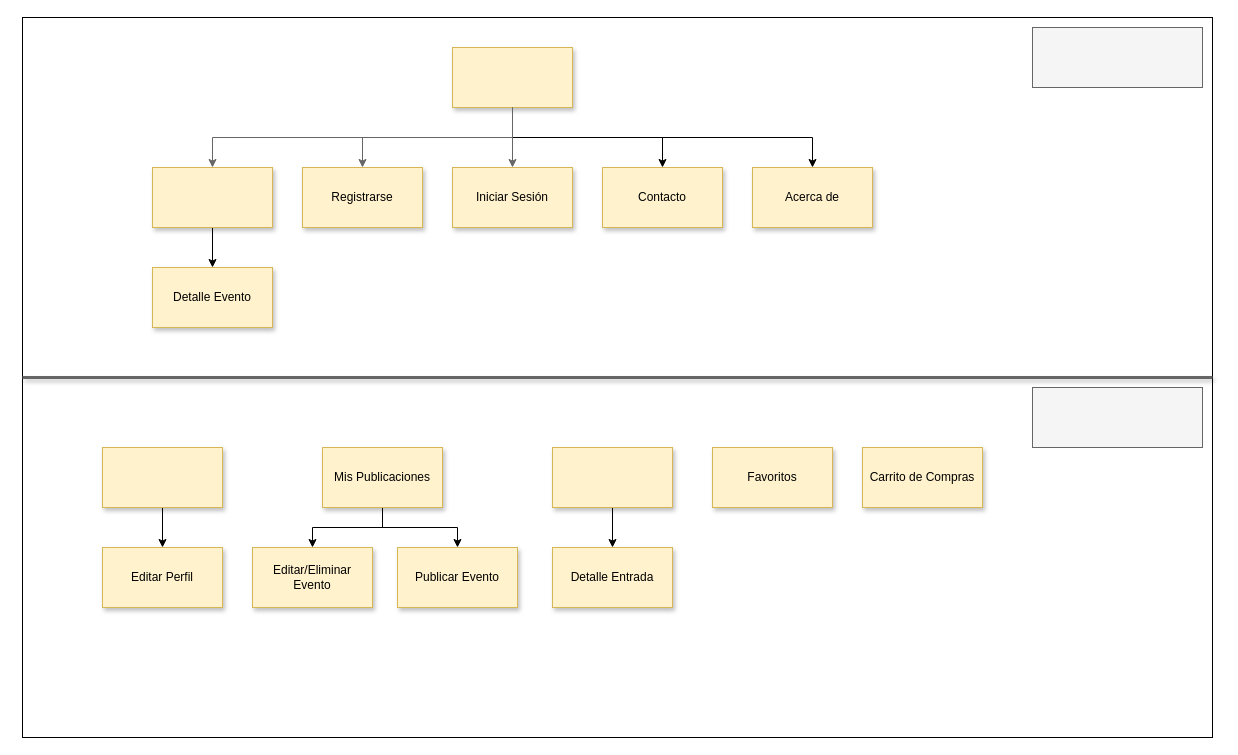
Image size: 1238x755. Some labels were removed from this diagram. The shapes that lost their labels are listed below. From the top down, each one's centre as x and y in pixels, then its label:
At (1117,57): "SECCION PÚBLICA".
At (513,78): "Home".
At (213,198): "Catálogo Eventos".
At (1117,417): "SECCION PRIVADA".
At (163,478): "Perfil".
At (613,478): "Mis Entradas".
